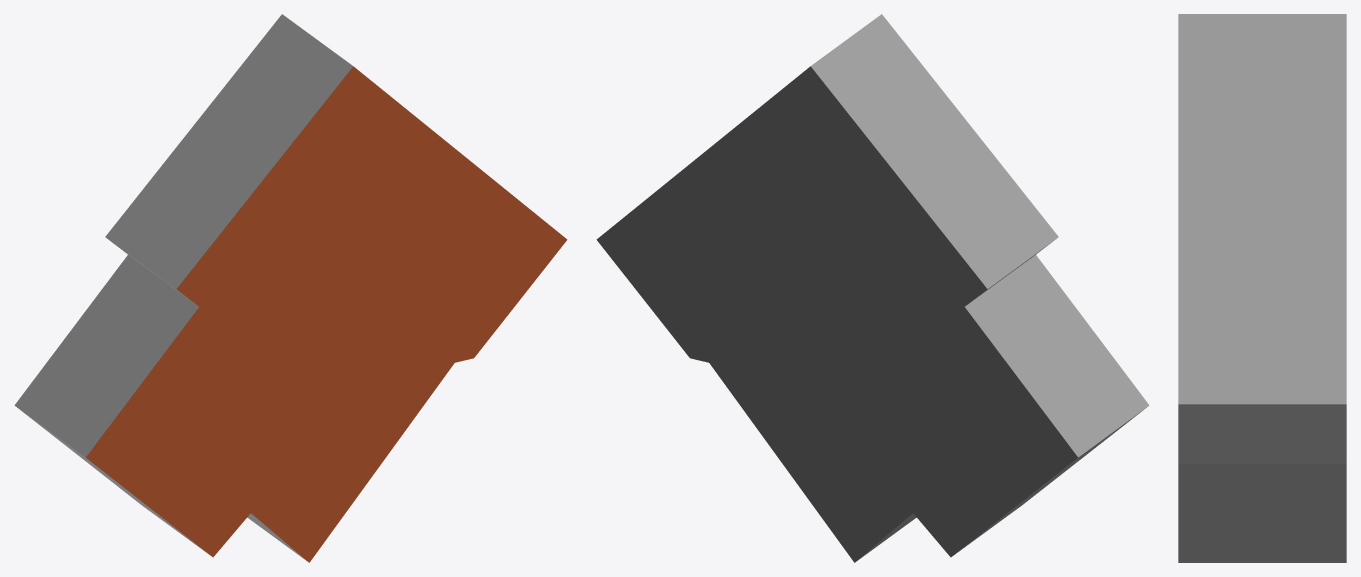
The model's file is construction_2515_assumed_A_Casa_h6m.obj.
3 views of the same model, side by side, from view 1: azimuth 30°, elevation 25°; view 2: azimuth 150°, elevation 25°; view 3: azimuth 270°, elevation 25° (orthographic). The views are drawn at different scales.
Visible parts, largest first — view 1: construction_2515_assumed_A_Casa; view 2: construction_2515_assumed_A_Casa; view 3: construction_2515_assumed_A_Casa.
Boxes of the visible parts, left/top/right/bottom form: construction_2515_assumed_A_Casa: left=14, top=14, right=567, bottom=562; construction_2515_assumed_A_Casa: left=596, top=14, right=1149, bottom=562; construction_2515_assumed_A_Casa: left=1178, top=14, right=1346, bottom=562.
Size of the model in its own units: 23.42 by 22.57 by 6.
